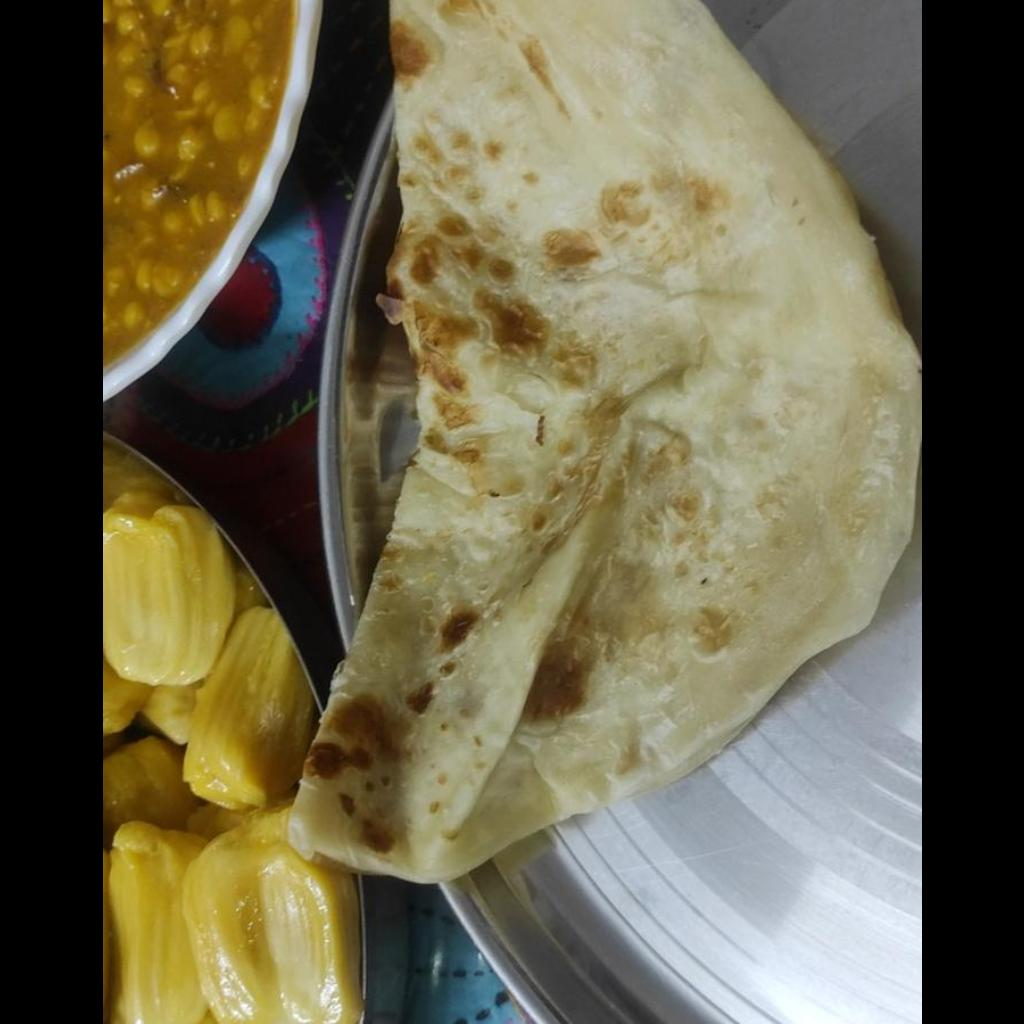daal: (103, 2, 301, 364)
ruti: (287, 0, 920, 883)
